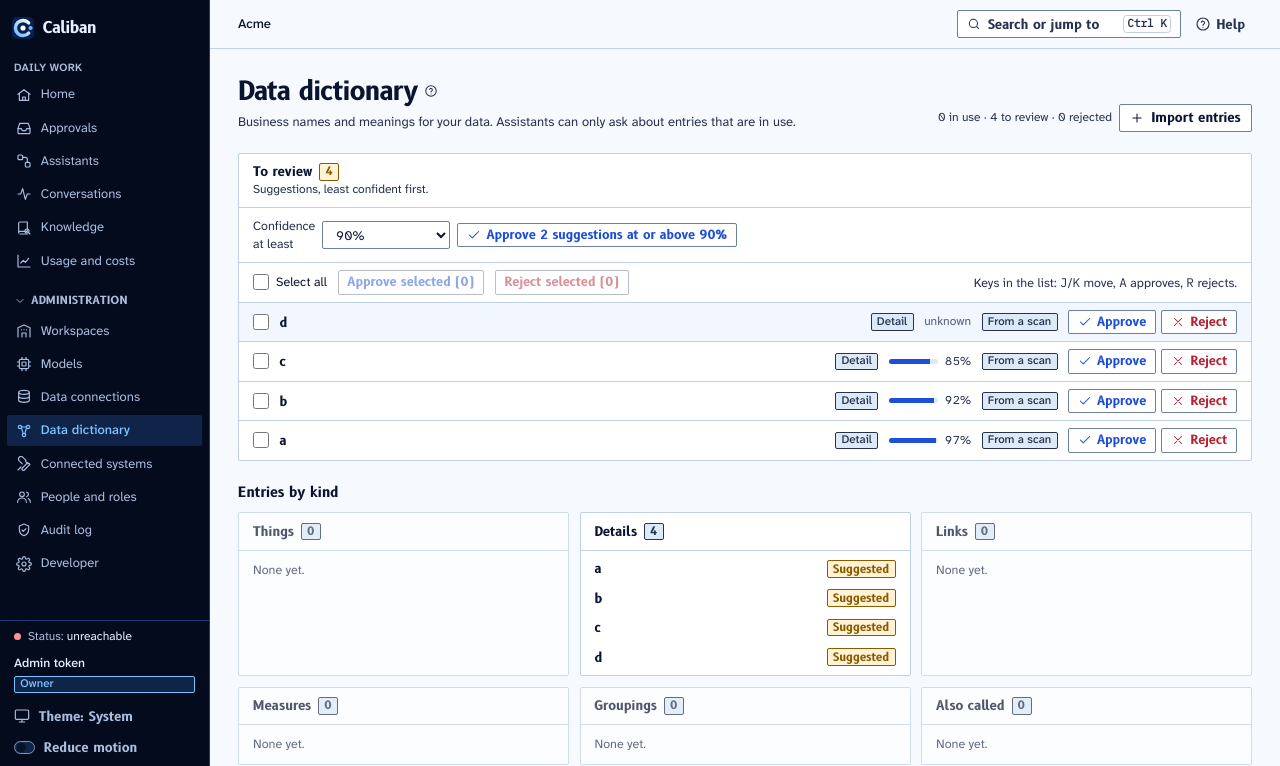
OntologyPage › approves every suggestion above a confidence in one batch, after saying how many
Click the button "Approve 2 suggestions at or above 90%" at (597, 235), box [457, 223, 737, 248]
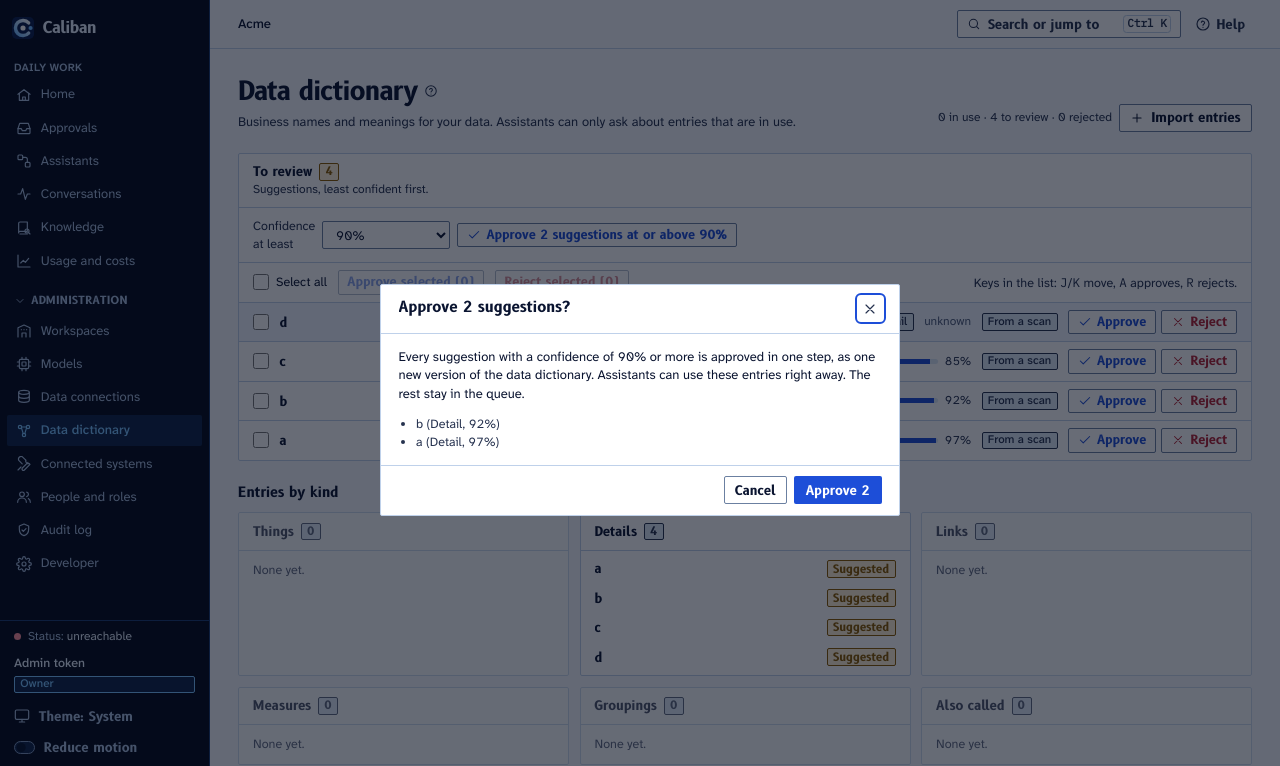
Click the button "Approve 2" at (838, 490), box [794, 476, 882, 504]
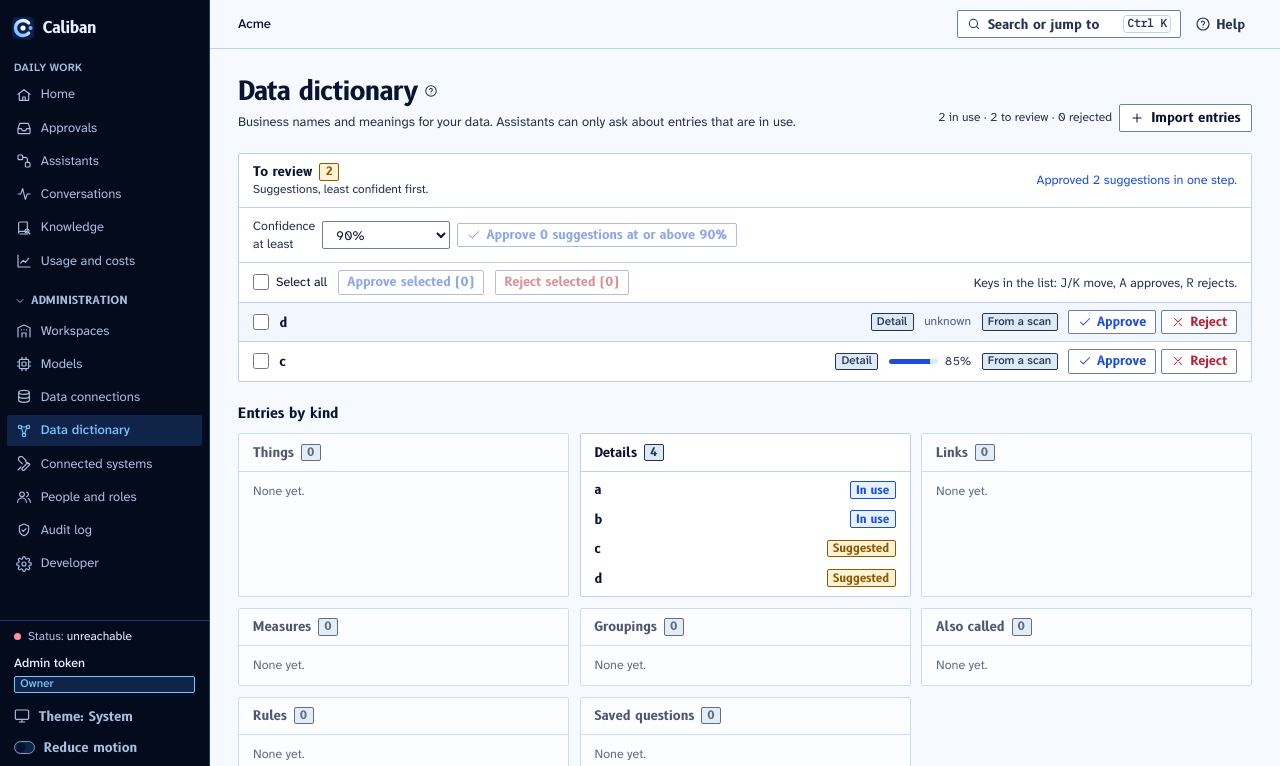
Expected: the text "Approved 2 suggestions in one step." is shown, [1037, 171, 1237, 190]
Select "80%" in the dropdown labelled "Confidence at least" at (386, 235), box [322, 221, 450, 249]
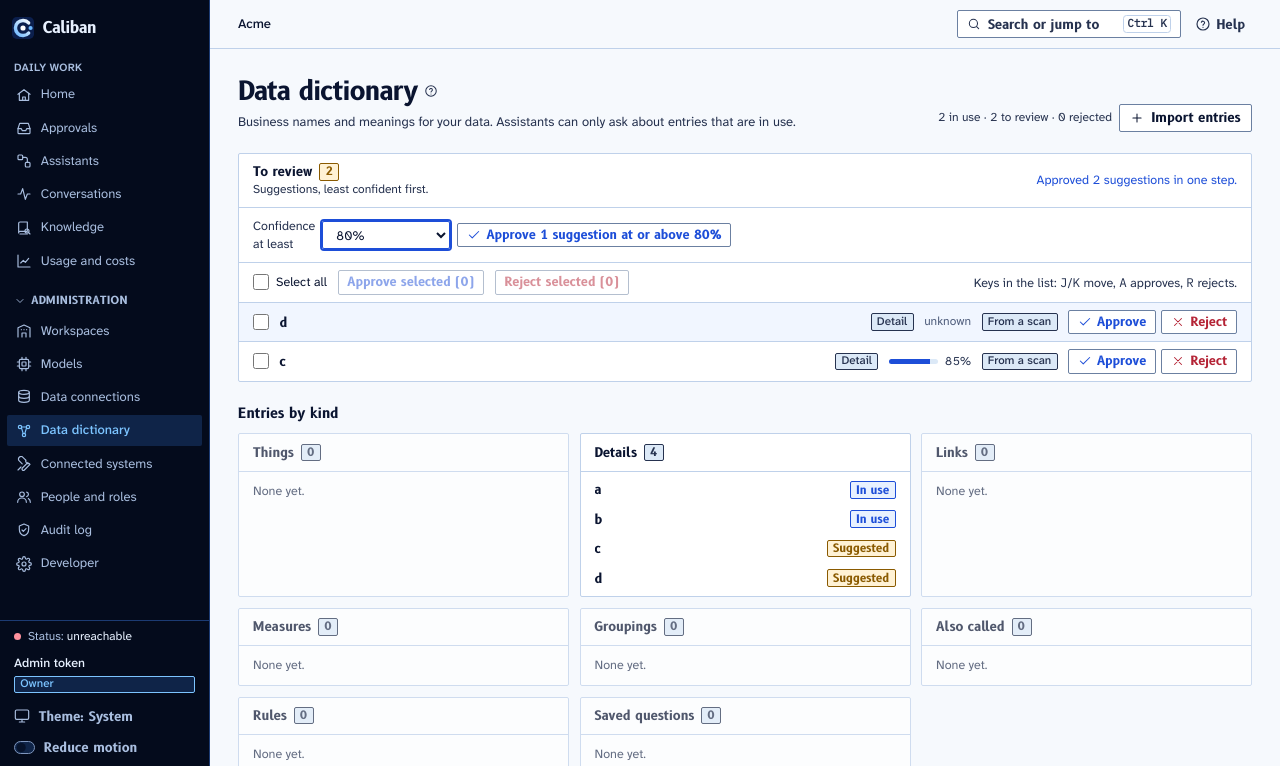
Expected: the button "Approve 1 suggestion at or above 80%" is shown, [457, 223, 731, 248]
